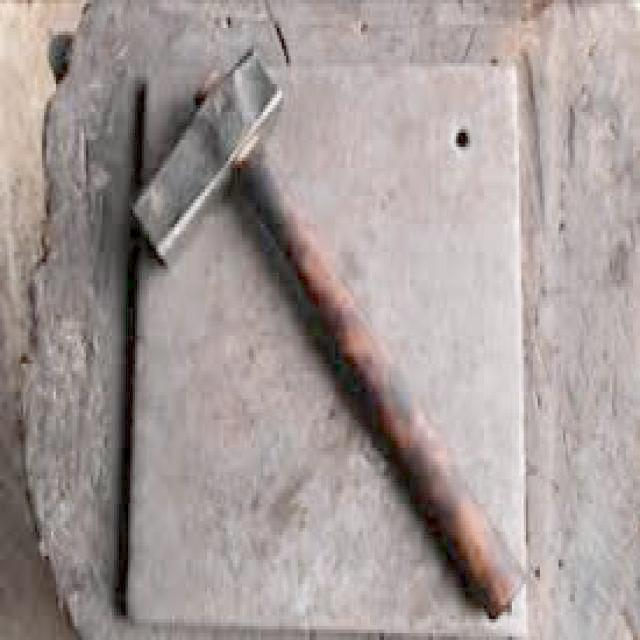hammer: (125, 40, 530, 631)
